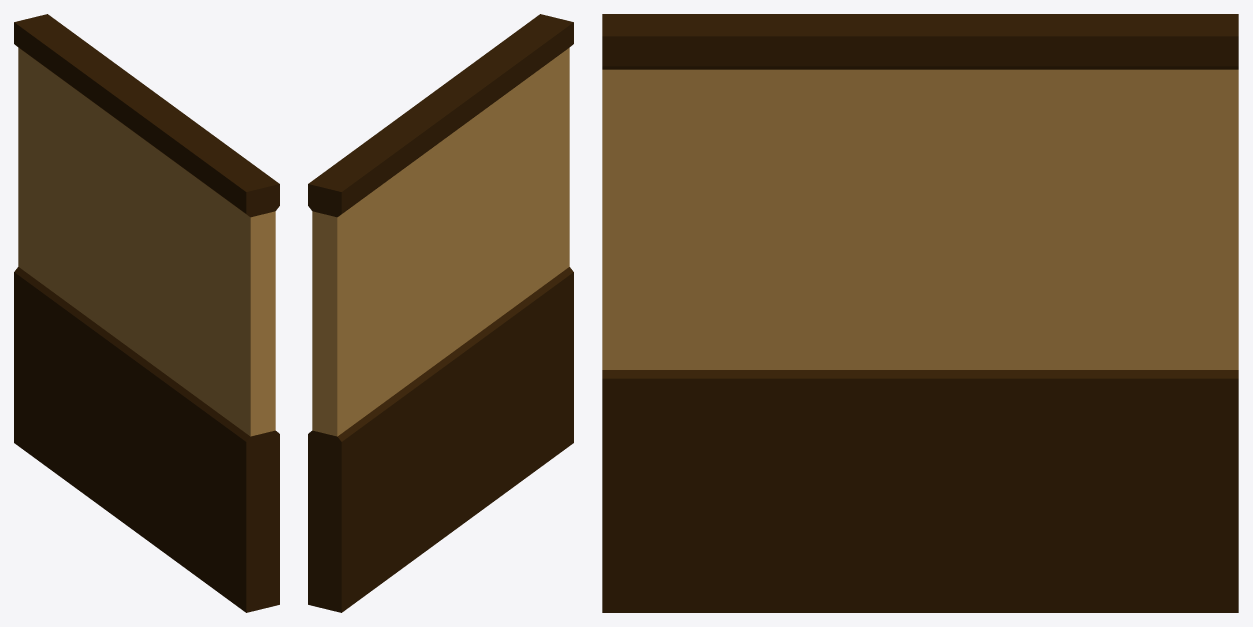
File: Classic_Wall_snaps001.fbx
3 views of the same model, side by side, from view 1: azimuth 30°, elevation 25°; view 2: azimuth 150°, elevation 25°; view 3: azimuth 270°, elevation 25° (orthographic). The views are drawn at different scales.
Visible parts, largest first — view 1: Classic_Wall_snaps001; view 2: Classic_Wall_snaps001; view 3: Classic_Wall_snaps001.
Boxes of the visible parts, x1,y1,x2,y2 form: Classic_Wall_snaps001: (14, 14, 279, 612); Classic_Wall_snaps001: (308, 14, 573, 612); Classic_Wall_snaps001: (602, 14, 1238, 612).
Size of the model in its own units: 25 by 300 by 300.
